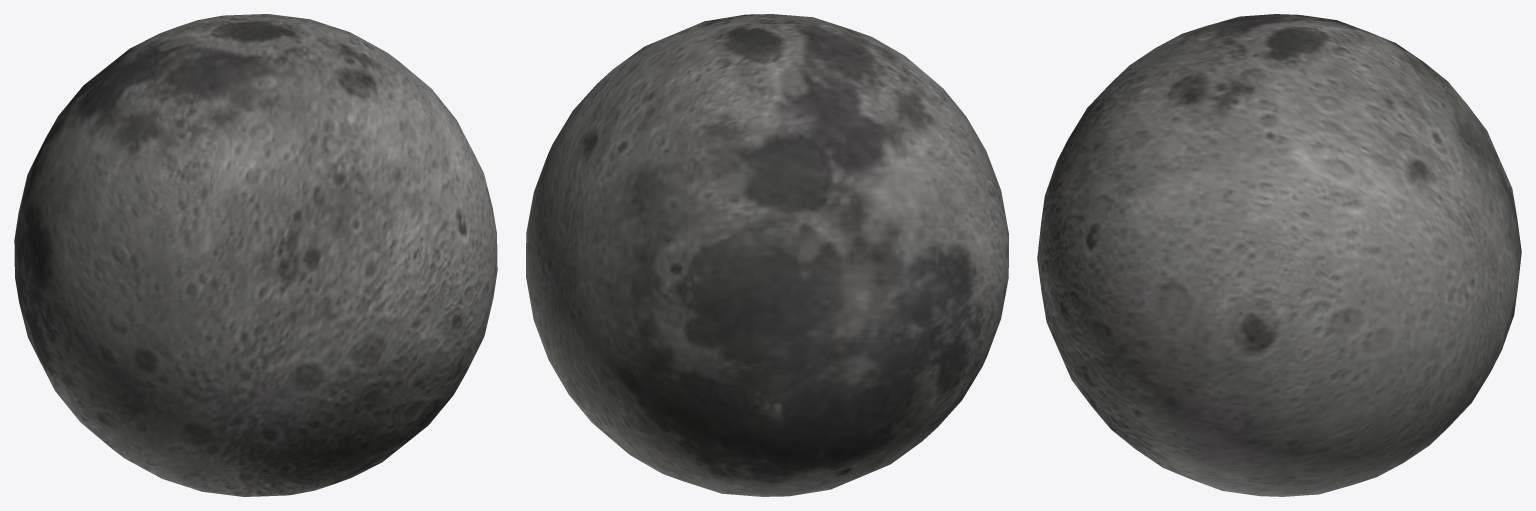
The model's file is moon_planet.glb.
3 renders of one model, left to right at view 1: azimuth 30°, elevation 25°; view 2: azimuth 150°, elevation 25°; view 3: azimuth 270°, elevation 25°, orthographic.
Visible parts, largest first — view 1: Moon; view 2: Moon; view 3: Moon.
Part boxes in pixels (bbox=[...]): Moon: bbox=[14, 14, 497, 496]; Moon: bbox=[526, 14, 1008, 496]; Moon: bbox=[1037, 14, 1521, 496].
Bounding box in the file's own units: 3.48 × 3.48 × 3.49.
Materials: 1 (1 with a texture image).
